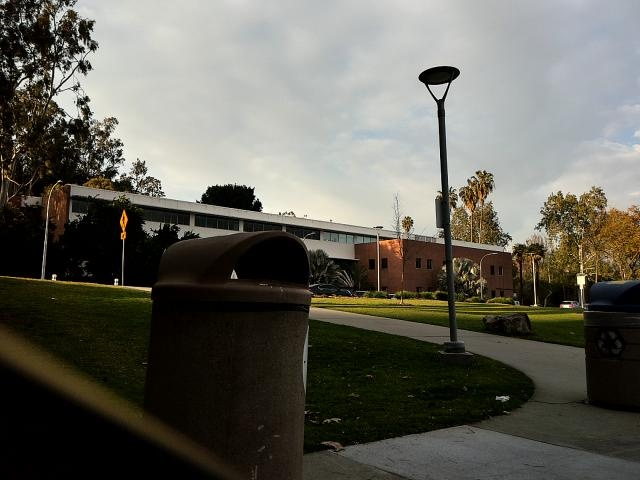trashcan: (137, 214, 342, 480), (568, 266, 640, 416)
